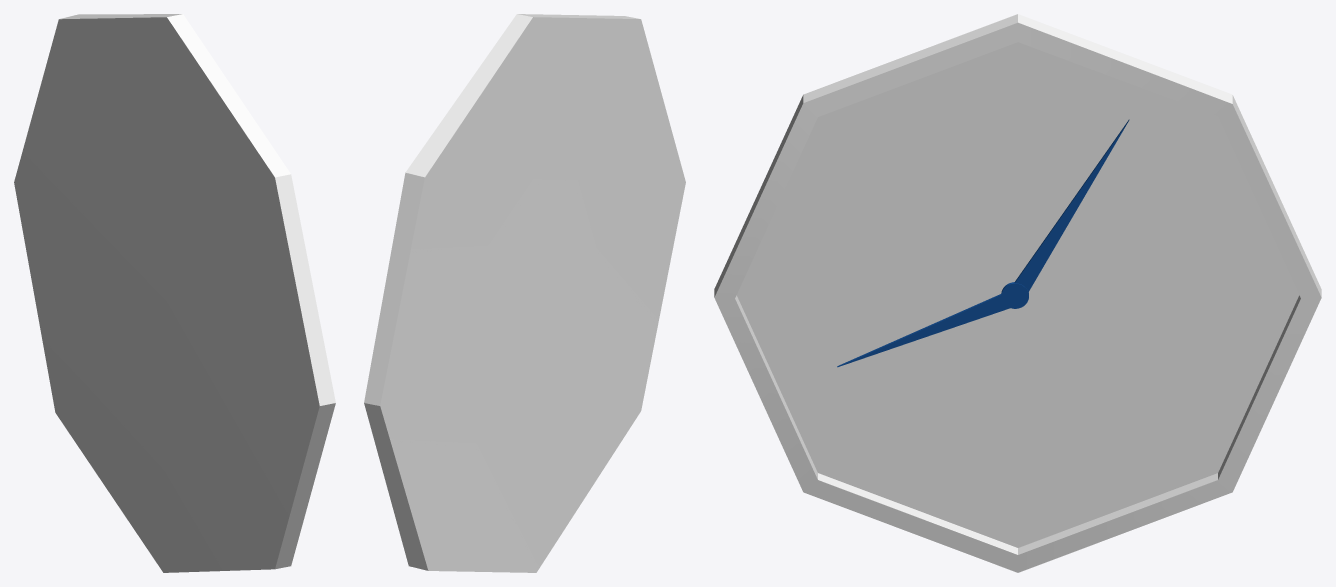
Rendered from reloj.fbx.
3 renders of one model, left to right at view 1: azimuth 30°, elevation 25°; view 2: azimuth 150°, elevation 25°; view 3: azimuth 270°, elevation 25°, orthographic.
Visible parts, largest first — view 1: polySurface1628; view 2: polySurface1628; view 3: polySurface1628.
Part boxes in pixels (x1,y1,x2,y2): polySurface1628: (14, 14, 335, 572); polySurface1628: (364, 14, 685, 572); polySurface1628: (714, 14, 1321, 572).
Size of the model in its own units: 0.1015 by 2.34 by 2.33.
